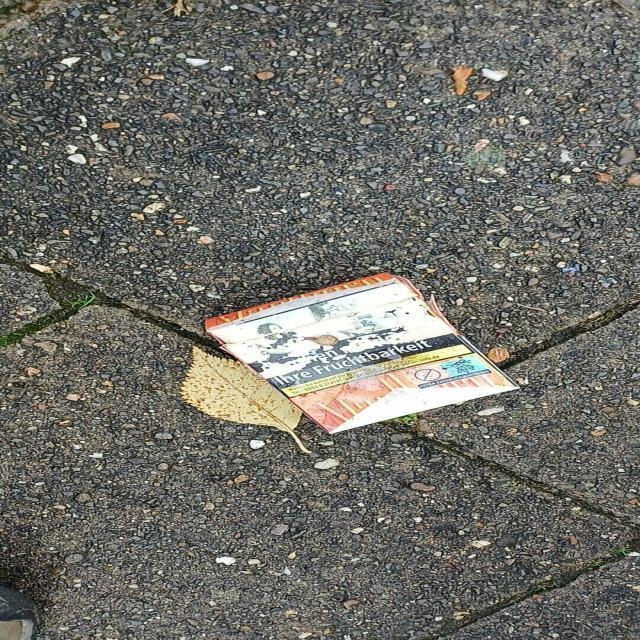Paper: (198, 269, 522, 437)
